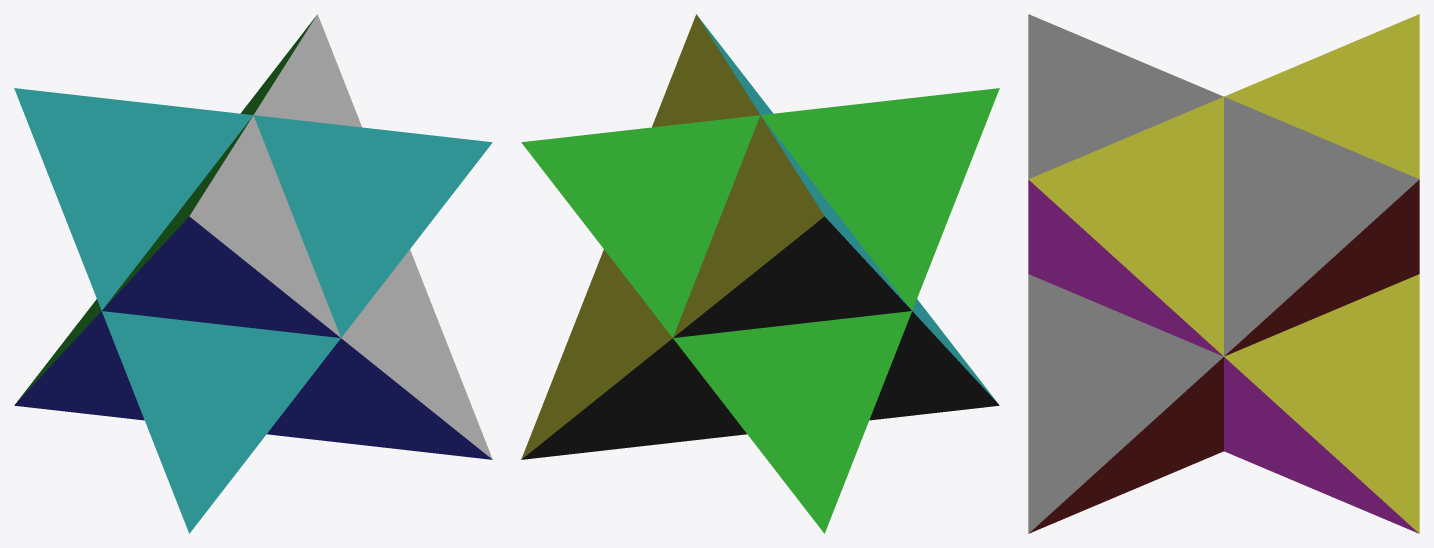
The model's file is zeometry-sculptural-star-tetrahedron_v1.glb.
3 renders of one model, left to right at view 1: azimuth 30°, elevation 25°; view 2: azimuth 150°, elevation 25°; view 3: azimuth 270°, elevation 25°, orthographic. The views are drawn at different scales.
Parts seen in each view (by area): view 1: Star Tetrahedron; view 2: Star Tetrahedron; view 3: Star Tetrahedron.
Boxes of the visible parts, bbox=[...] form: Star Tetrahedron: bbox=[14, 14, 492, 533]; Star Tetrahedron: bbox=[521, 14, 999, 533]; Star Tetrahedron: bbox=[1028, 14, 1419, 533].
Bounding box in the file's own units: 0.5 × 0.5 × 0.5.
